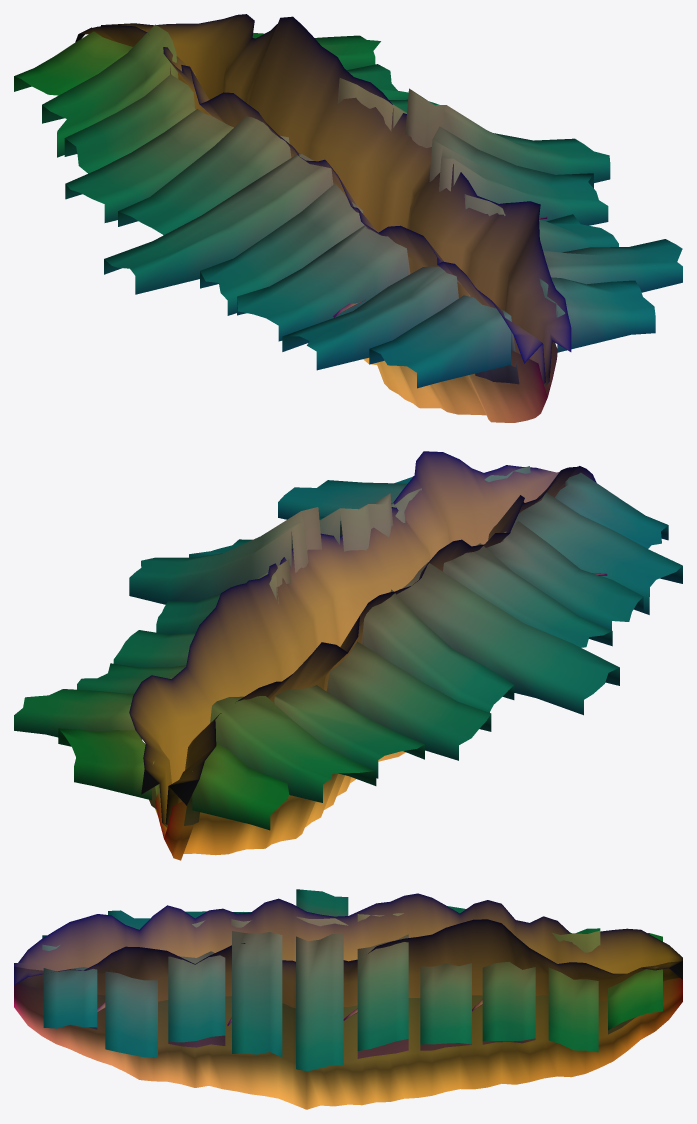
The model's file is vfx_trench_fissure.glb.
3 renders of one model, top to bottom at view 1: azimuth 30°, elevation 25°; view 2: azimuth 150°, elevation 25°; view 3: azimuth 270°, elevation 25°, orthographic. The views are drawn at different scales.
Visible parts, largest first — view 1: trench_fissure_rock, trench_fissure_glow; view 2: trench_fissure_rock, trench_fissure_glow; view 3: trench_fissure_glow, trench_fissure_rock.
Boxes of the visible parts, <box> form: trench_fissure_rock: <box>14,24,682,388</box>; trench_fissure_glow: <box>75,14,571,422</box>; trench_fissure_rock: <box>14,466,682,830</box>; trench_fissure_glow: <box>129,451,607,860</box>; trench_fissure_glow: <box>14,893,682,1109</box>; trench_fissure_rock: <box>42,889,662,1071</box>.
Size of the model in its own units: 0.6394 by 0.3285 by 1.
